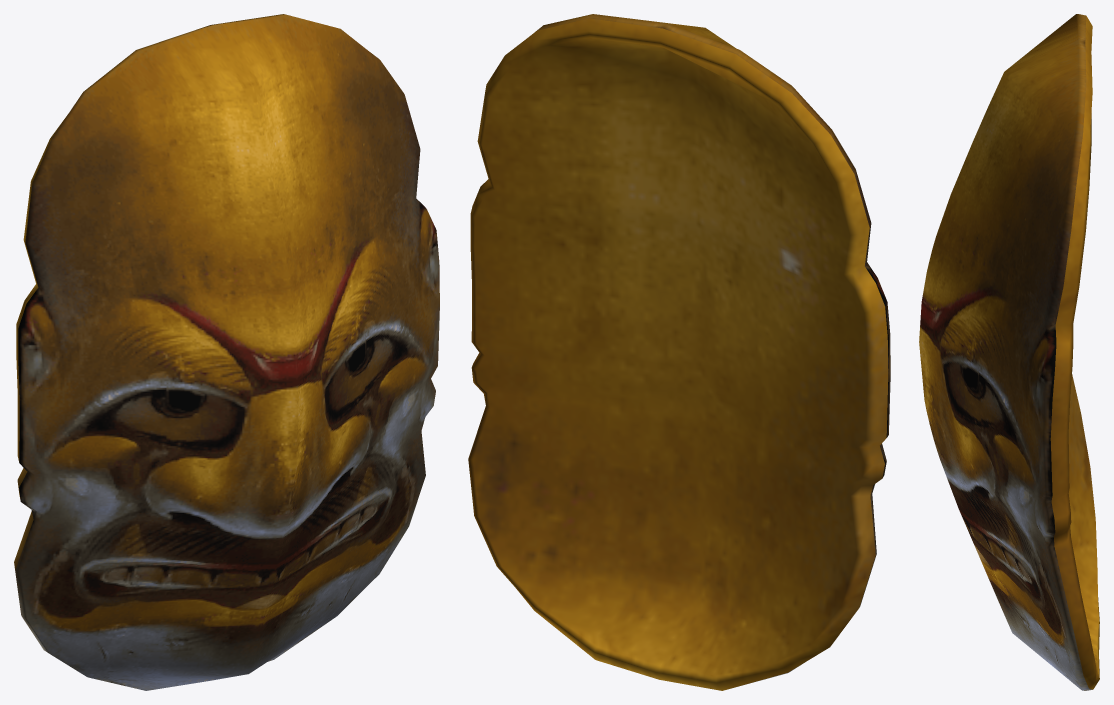
File: mask1.fbx
The picture shows the model from 3 angles, left to right: view 1: azimuth 30°, elevation 25°; view 2: azimuth 150°, elevation 25°; view 3: azimuth 270°, elevation 25°; orthographic projection. The views are drawn at different scales.
Parts seen in each view (by area): view 1: mask1; view 2: mask1; view 3: mask1.
Part boxes in pixels (left/top/right/bottom): mask1: left=14, top=14, right=439, bottom=690; mask1: left=468, top=14, right=890, bottom=690; mask1: left=919, top=14, right=1099, bottom=690.
Size of the model in its own units: 10.83 by 16.26 by 4.26.
1 material, 1 textured.
